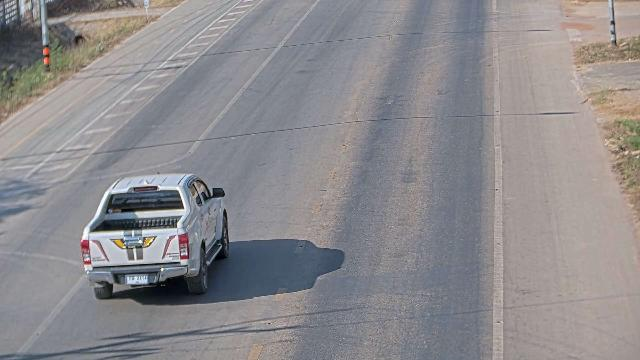pickup-truck: (79, 172, 230, 299)
